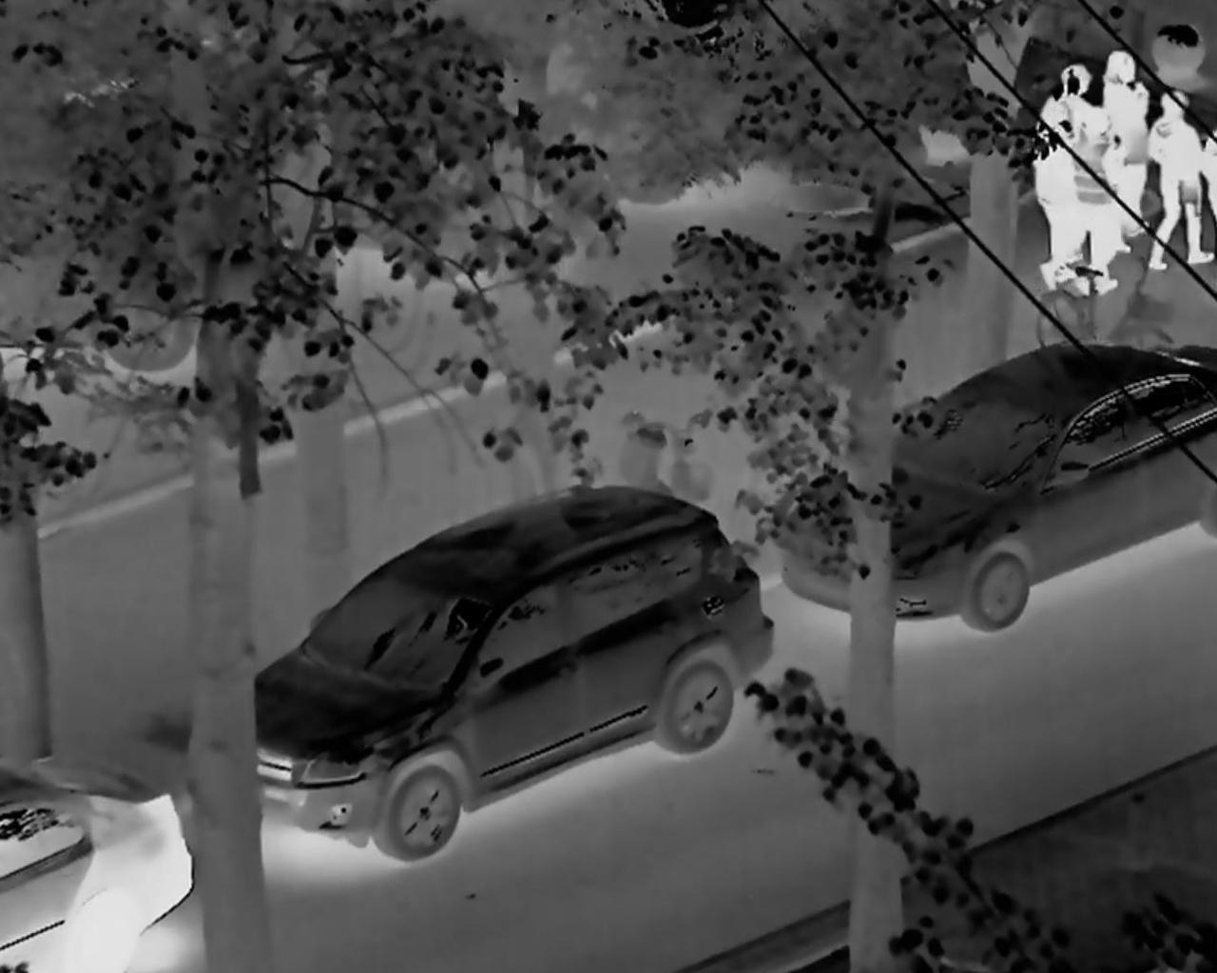person: (1020, 78, 1082, 290), (1144, 73, 1210, 272), (1096, 42, 1151, 238), (1072, 106, 1128, 293)
